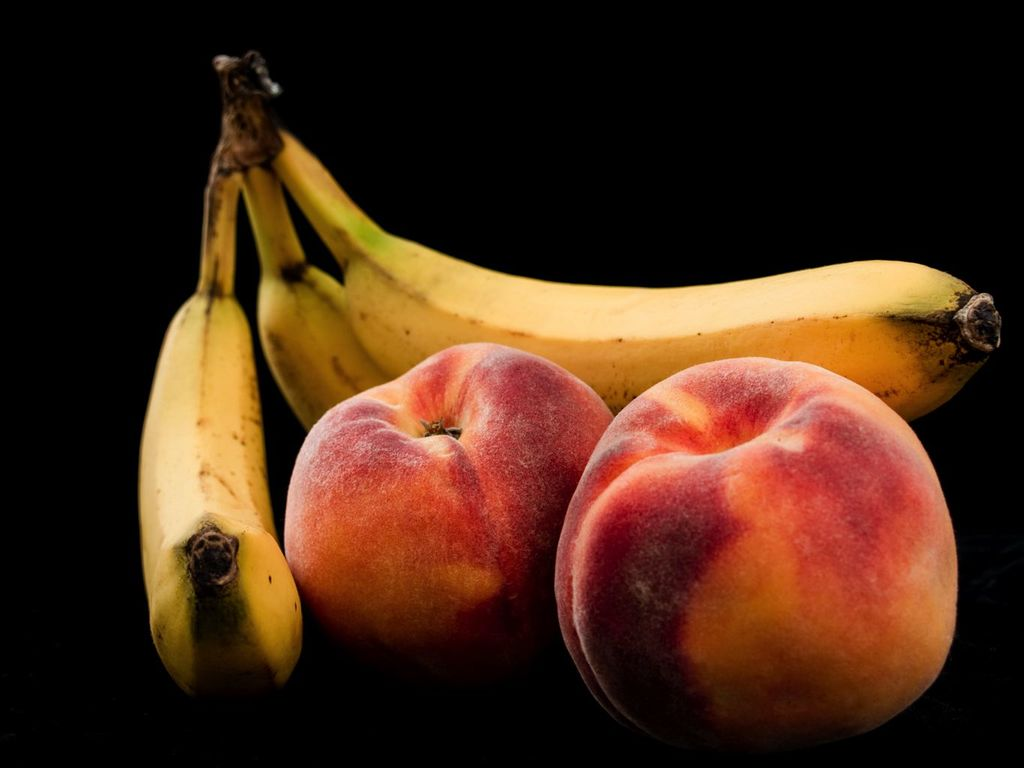Apple: (567, 357, 966, 756), (281, 336, 615, 682)
